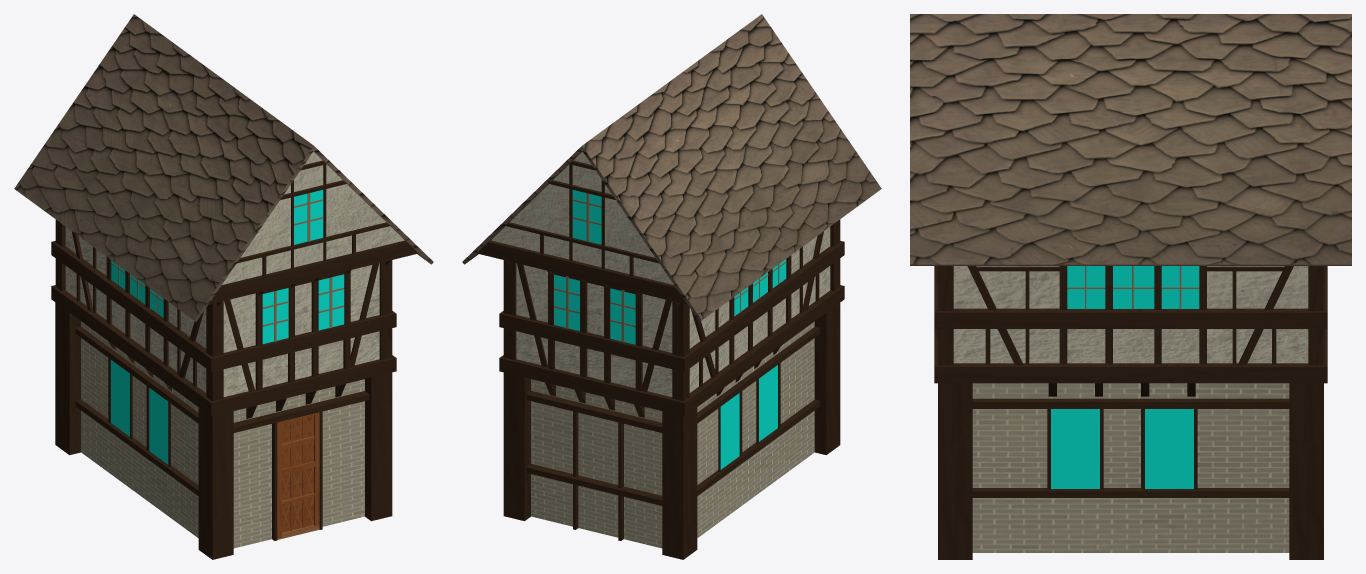
3 renders of one model, left to right at view 1: azimuth 30°, elevation 25°; view 2: azimuth 150°, elevation 25°; view 3: azimuth 270°, elevation 25°, orthographic. The views are drawn at different scales.
Parts seen in each view (by area): view 1: House1_2; view 2: House1_2; view 3: House1_2.
Part boxes in pixels (bbox=[...]): House1_2: bbox=[14, 14, 433, 559]; House1_2: bbox=[462, 14, 881, 559]; House1_2: bbox=[910, 14, 1351, 559].
Size of the model in its own units: 107 by 171 by 139.
